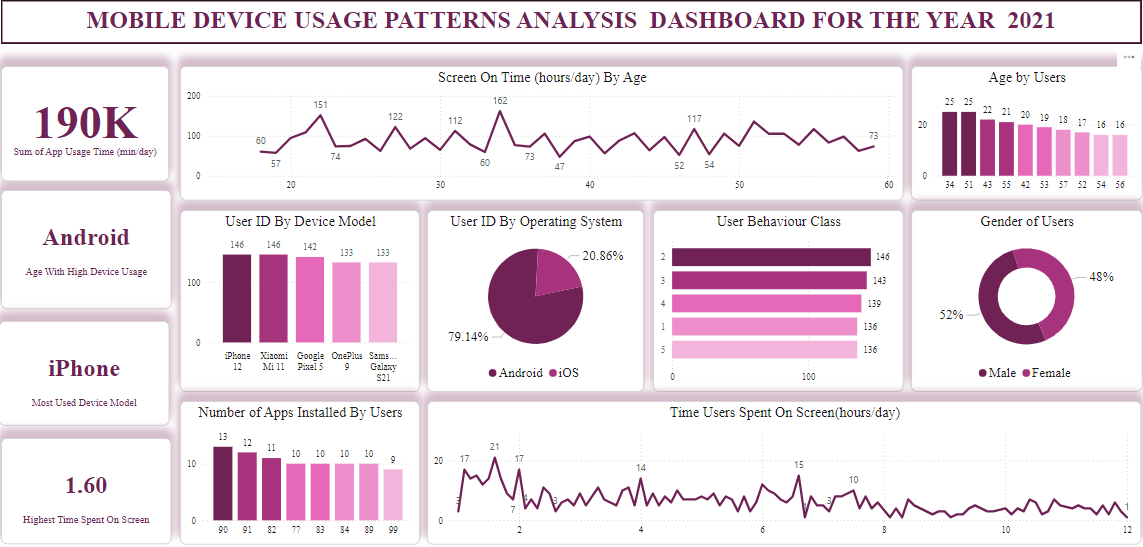

What the dashboard file says about the page in this screenshot:
{"tool":"powerbi","page":{"name":"Page 1","canvas":[1500,720],"ordinal":0},"visuals":[{"type":"columnChart","title":"Age by Users","fields":{"Category":["user_behavior_dataset.Age"],"Y":["CountNonNull(user_behavior_dataset.User ID)"]},"box":[1193.3,89.2,302.5,175.7],"z":0},{"type":"donutChart","title":"Gender of Users","fields":{"Category":["user_behavior_dataset.Gender"],"Y":["CountNonNull(user_behavior_dataset.User ID)"]},"box":[1193.3,277.4,302.5,238.4],"z":1000},{"type":"columnChart","title":"User ID By Device Model","fields":{"Category":["user_behavior_dataset.Device Model"],"Y":["CountNonNull(user_behavior_dataset.User ID)"]},"box":[237,277.4,313.7,238.4],"z":2000},{"type":"clusteredBarChart","title":"User Behaviour Class","fields":{"Category":["user_behavior_dataset.User Behavior Class"],"Y":["CountNonNull(user_behavior_dataset.User ID)"]},"box":[855.9,277.4,327.6,238.4],"z":3000},{"type":"lineChart","title":"Time Users Spent On Screen(hours/day)","fields":{"Category":["user_behavior_dataset.Screen On Time (hours/day)"],"Y":["CountNonNull(user_behavior_dataset.User ID)"]},"box":[560.4,527,935.4,188.2],"z":4000},{"type":"clusteredColumnChart","title":"Number of Apps Installed By Users","fields":{"Y":["CountNonNull(user_behavior_dataset.User ID)"],"Category":["user_behavior_dataset.Number of Apps Installed"]},"box":[237,527,313.7,188.2],"z":5000},{"type":"pieChart","title":"User ID By Operating System","fields":{"Category":["user_behavior_dataset.Operating System"],"Y":["CountNonNull(user_behavior_dataset.User ID)"]},"box":[560.4,277.4,284.4,238.4],"z":6000},{"type":"lineChart","title":"Screen On Time (hours/day) By Age","fields":{"Category":["user_behavior_dataset.Age"],"Y":["Sum(user_behavior_dataset.Screen On Time (hours/day))"]},"box":[237,89.2,946.6,175.7],"z":7000},{"type":"textbox","box":[2.8,2.8,1493,57.2],"z":7001},{"type":"textbox","box":[2.8,250.9,223,156.1],"z":7003},{"type":"textbox","box":[0,422.4,223,136.6],"z":7004},{"type":"textbox","box":[2.8,575.7,223,139.4],"z":7005},{"type":"card","fields":{"Values":["Sum(user_behavior_dataset.App Usage Time (min/day))"]},"box":[2.8,89.2,220.3,150.6],"z":7006}]}

Visuals, with their boxes in screenshot pixels (x1, y1, x2, y2), scaled from the page's 1500x720 canvas onto the 1143x547 screenshot:
"Age by Users" columnChart: select_region(909, 68, 1140, 201)
"Gender of Users" donutChart: select_region(909, 211, 1140, 392)
"User ID By Device Model" columnChart: select_region(181, 211, 420, 392)
"User Behaviour Class" clusteredBarChart: select_region(652, 211, 902, 392)
"Time Users Spent On Screen(hours/day)" lineChart: select_region(427, 400, 1140, 543)
"Number of Apps Installed By Users" clusteredColumnChart: select_region(181, 400, 420, 543)
"User ID By Operating System" pieChart: select_region(427, 211, 644, 392)
"Screen On Time (hours/day) By Age" lineChart: select_region(181, 68, 902, 201)
textbox: select_region(2, 2, 1140, 46)
textbox: select_region(2, 191, 172, 309)
textbox: select_region(0, 321, 170, 425)
textbox: select_region(2, 437, 172, 543)
card - Sum(user_behavior_dataset.App Usage Time (min/day)): select_region(2, 68, 170, 182)
